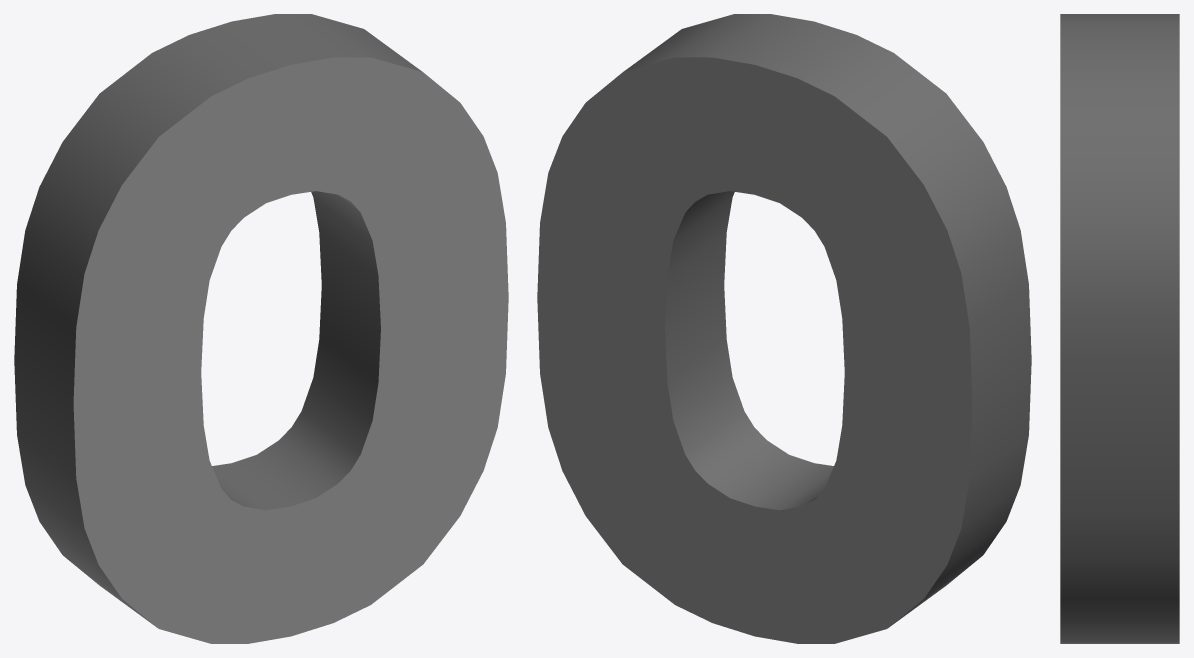
File: number_0.FBX
3 views of the same model, side by side, from view 1: azimuth 30°, elevation 25°; view 2: azimuth 150°, elevation 25°; view 3: azimuth 270°, elevation 25° (orthographic).
Visible parts, largest first — view 1: number_0; view 2: number_0; view 3: number_0.
Part boxes in pixels (bbox=[...]): number_0: bbox=[14, 14, 508, 643]; number_0: bbox=[537, 14, 1031, 643]; number_0: bbox=[1060, 14, 1179, 643].
Size of the model in its own units: 28.66 by 35.97 by 6.76.
